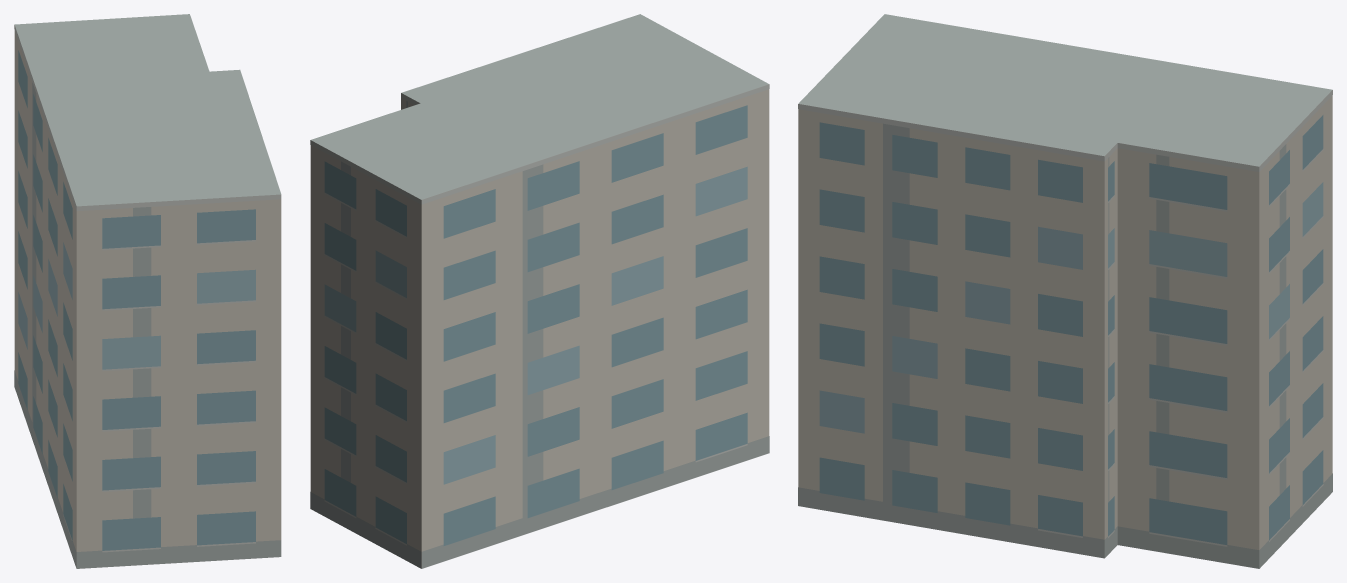
The model's file is survey-upis-32574466.glb.
3 renders of one model, left to right at view 1: azimuth 30°, elevation 25°; view 2: azimuth 150°, elevation 25°; view 3: azimuth 270°, elevation 25°, orthographic. The views are drawn at different scales.
Parts seen in each view (by area): view 1: survey-upis-32574466.tmp; view 2: survey-upis-32574466.tmp; view 3: survey-upis-32574466.tmp.
Part boxes in pixels (bbox=[...]): survey-upis-32574466.tmp: bbox=[14, 14, 281, 568]; survey-upis-32574466.tmp: bbox=[310, 14, 769, 568]; survey-upis-32574466.tmp: bbox=[798, 14, 1332, 568].
Bounding box in the file's own units: 15.08 × 18.5 × 22.3.
